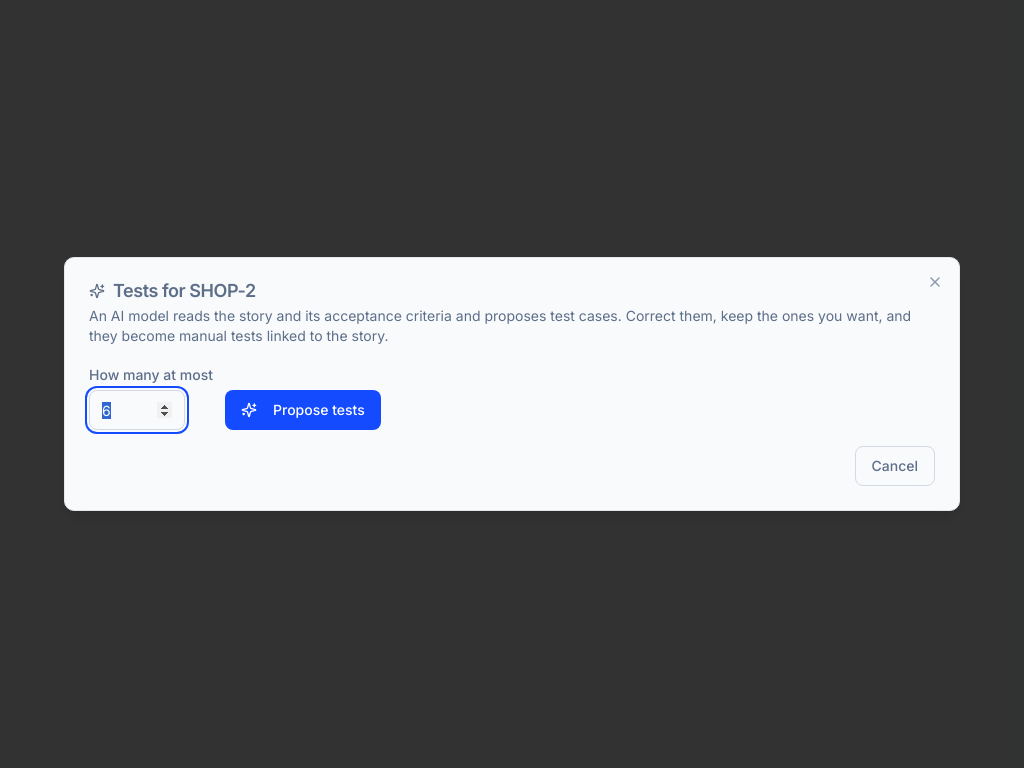
Test: GenerateTestsDialog › asks in the interface language and shows what the story said
Replace the text in the number field labelled "How many at most" with "4" at x=137, y=410, box [89,390,185,430]
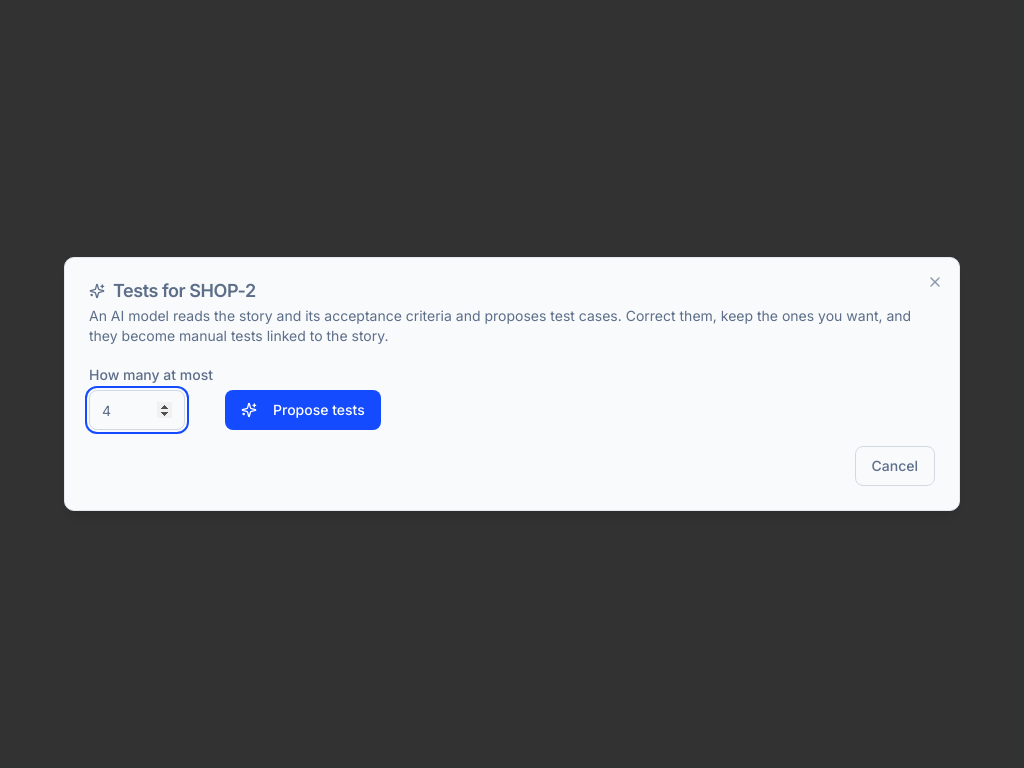
Click the button "Propose tests" at x=303, y=410, box [225,390,381,430]
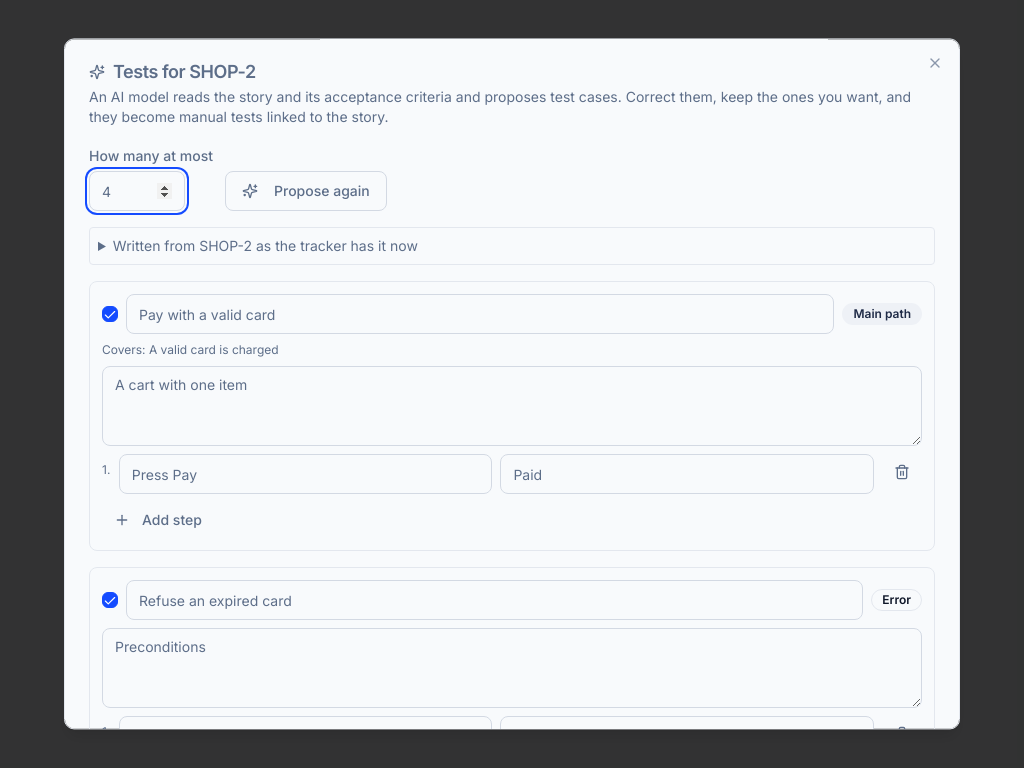
Expected: the field showing "Pay with a valid card" is shown, [126,294,834,334]
Expected: the heading "Written from SHOP-2 as the tracker has it now" is shown, [113,237,418,254]
Expected: the text "Covers: A valid card is charged" is shown, [102,342,279,357]
